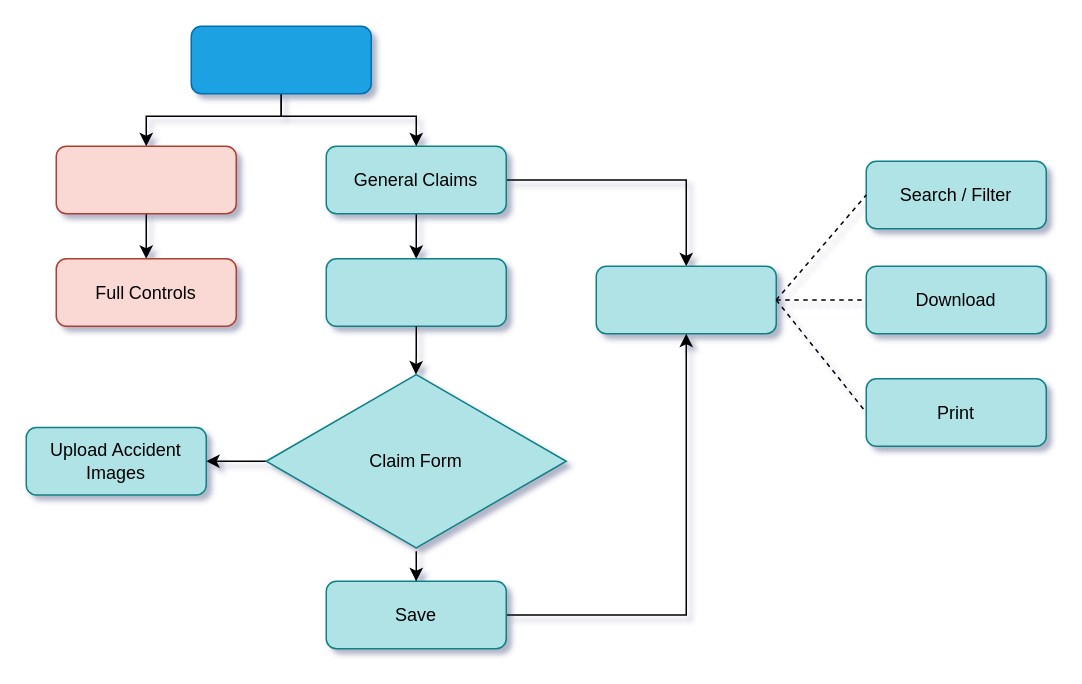
The diagram is 1082 pixels wide and 684 high, and some of its shapes have lost their labels. Here are the shapes that lost their labels. From the top down, the box of each, then its label:
(190, 25, 371, 94): Login
(55, 145, 236, 214): Admin Claims
(325, 257, 506, 326): Insert Claim Case
(595, 265, 776, 334): Report (Views only)
